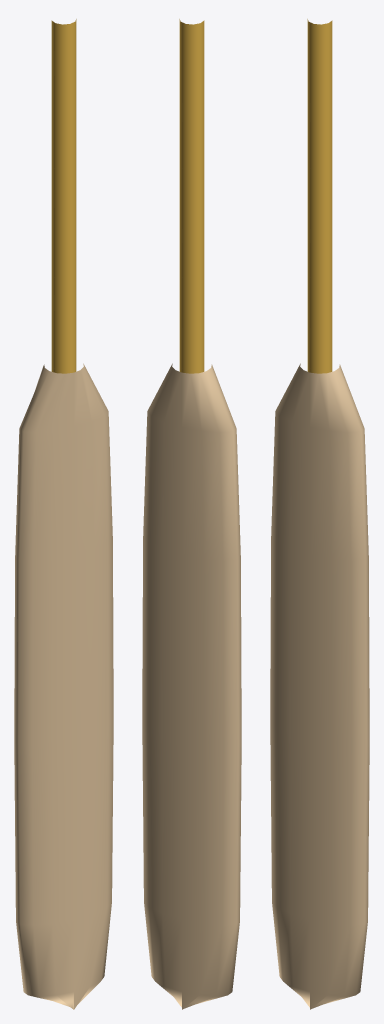
The model's file is bat_pro_willow_01_v1.glb.
The picture shows the model from 3 angles, left to right: view 1: azimuth 30°, elevation 25°; view 2: azimuth 150°, elevation 25°; view 3: azimuth 330°, elevation 25°; orthographic projection.
Parts seen in each view (by area): view 1: Bat_Blade, Bat_Handle; view 2: Bat_Blade, Bat_Handle; view 3: Bat_Blade, Bat_Handle.
Part boxes in pixels (<box>): Bat_Blade: <box>14,363,113,1009</box>; Bat_Handle: <box>51,19,76,373</box>; Bat_Blade: <box>142,363,241,1009</box>; Bat_Handle: <box>179,19,204,373</box>; Bat_Blade: <box>270,363,369,1009</box>; Bat_Handle: <box>307,19,332,373</box>.
Bounding box in the file's own units: 0.1092 × 1.08 × 0.04.
